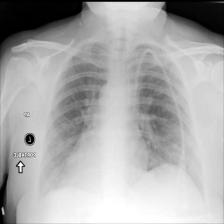normal: (38, 38, 191, 189)
